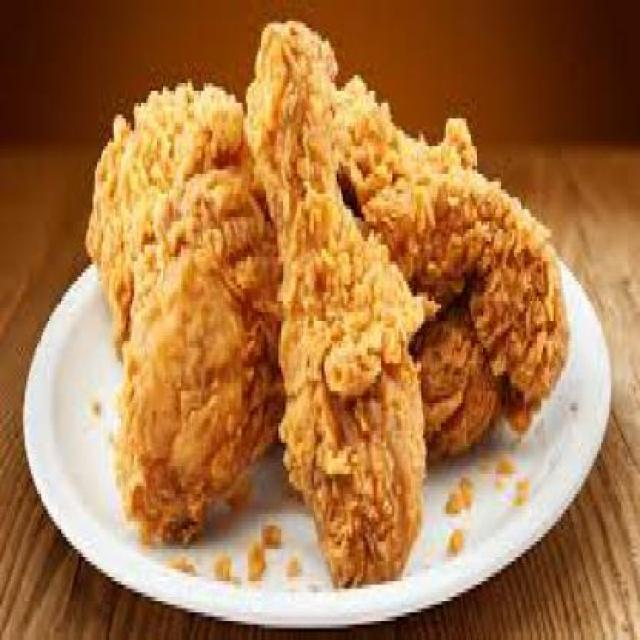Frango: (90, 20, 570, 597)
